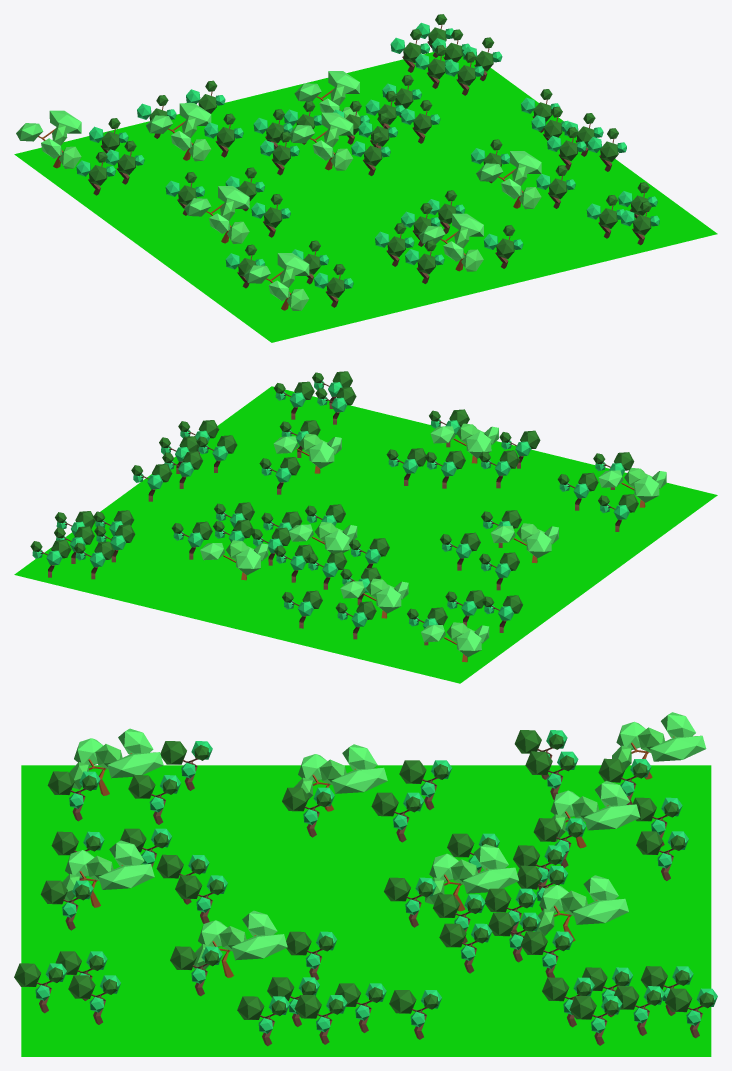
The picture shows the model from 3 angles, top to bottom: view 1: azimuth 30°, elevation 25°; view 2: azimuth 150°, elevation 25°; view 3: azimuth 270°, elevation 25°; orthographic projection. The views are drawn at different scales.
Visible parts, largest first — view 1: Ground, Feuillage2.005, Feuillage2.006; view 2: Ground, Feuillage1.008, Feuillage1.009, Feuillage1.007, Feuillage1.010, Feuillage1.006, Feuillage1; view 3: Ground, Feuillage2.008, Feuillage2.010, Feuillage2.006, Feuillage2.011, Feuillage2, Feuillage2.009, Feuillage2.007, Feuillage2.005, Feuillage1.008, Feuillage1.009, Feuillage1.011 (+5 smaller).
Boxes of the visible parts, left/top/right/bottom form: Ground: left=14, top=45, right=717, bottom=342; Feuillage2.005: left=321, top=112, right=353, bottom=135; Feuillage2.006: left=49, top=110, right=81, bottom=133; Ground: left=14, top=386, right=717, bottom=683; Feuillage1.008: left=526, top=531, right=551, bottom=558; Feuillage1.009: left=309, top=441, right=334, bottom=468; Feuillage1.007: left=634, top=475, right=659, bottom=502; Feuillage1.010: left=376, top=586, right=401, bottom=613; Feuillage1.006: left=456, top=630, right=481, bottom=657; Feuillage1: left=236, top=548, right=260, bottom=575; Ground: left=21, top=765, right=711, bottom=1056; Feuillage2.008: left=331, top=767, right=387, bottom=793; Feuillage2.010: left=584, top=804, right=640, bottom=830; Feuillage2.006: left=650, top=735, right=706, bottom=761; Feuillage2.011: left=98, top=864, right=154, bottom=889; Feuillage2: left=573, top=898, right=628, bottom=924; Feuillage2.009: left=231, top=934, right=287, bottom=960; Feuillage2.007: left=107, top=752, right=163, bottom=778; Feuillage2.005: left=463, top=867, right=518, bottom=893; Feuillage1.008: left=342, top=744, right=377, bottom=769; Feuillage1.009: left=242, top=910, right=277, bottom=936; Feuillage1.011: left=109, top=840, right=144, bottom=866.
Bounding box in the file's own units: 10178 × 885 × 10204.
